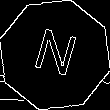N_S: (28, 25, 82, 85)
